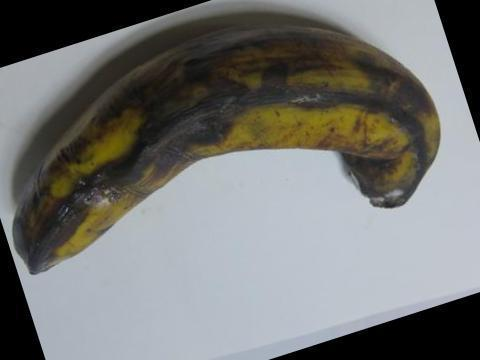overripe: (0, 13, 449, 273)
